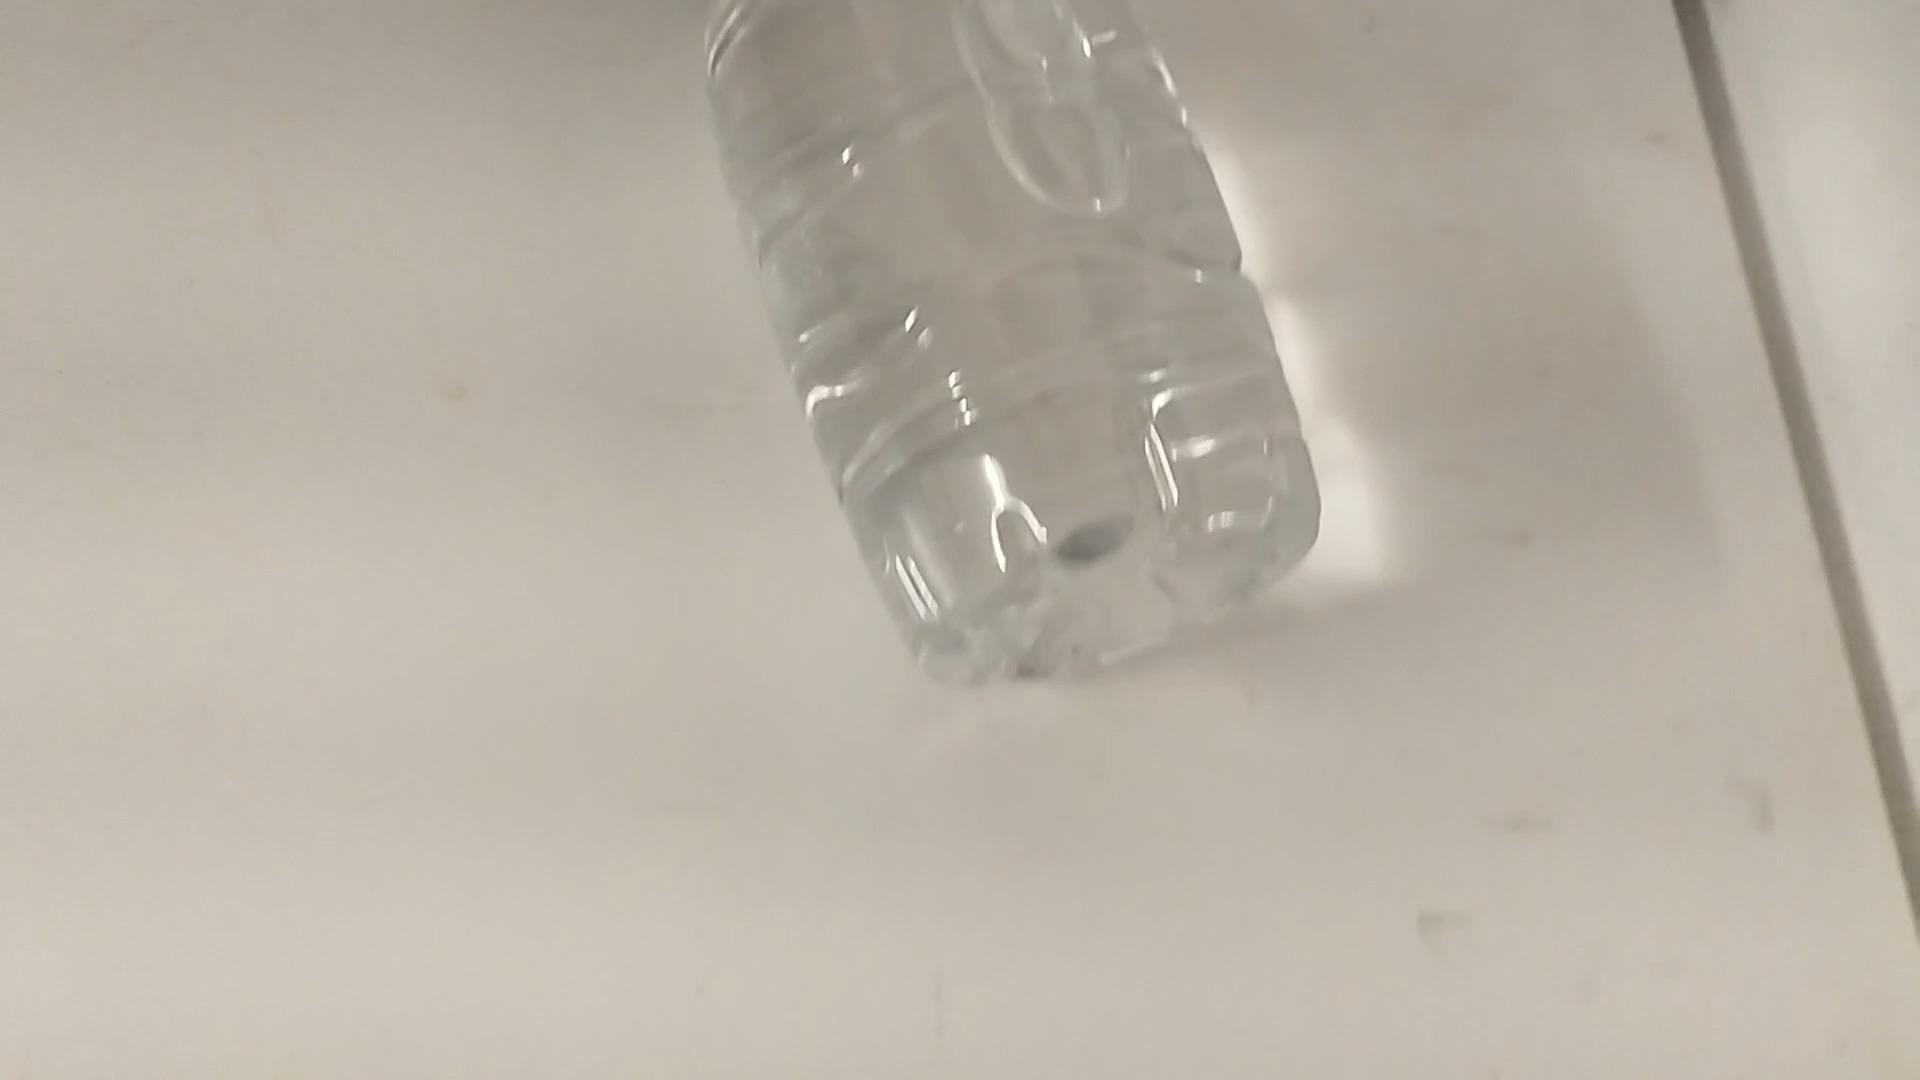agua: (682, 0, 1323, 698)
